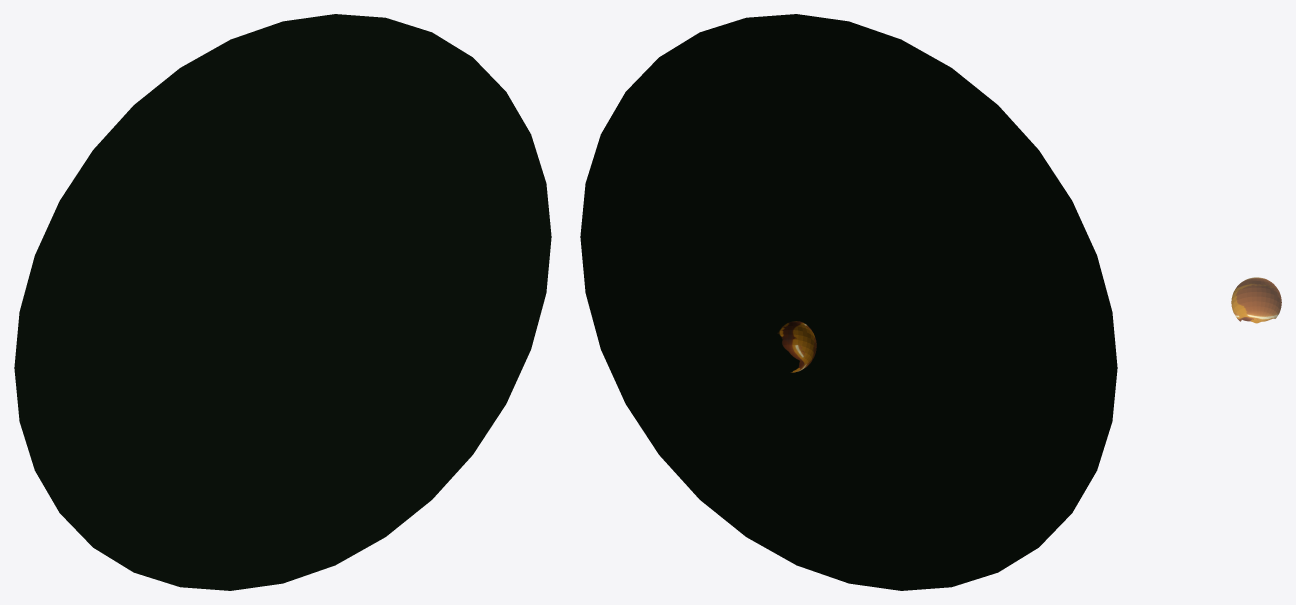
3 views of the same model, side by side, from view 1: azimuth 30°, elevation 25°; view 2: azimuth 150°, elevation 25°; view 3: azimuth 270°, elevation 25° (orthographic). The views are drawn at different scales.
Parts seen in each view (by area): view 1: explosion_bullet_circle; view 2: explosion_bullet_circle, explosion_cloud; view 3: explosion_cloud.
Boxes of the visible parts, x1=… form: explosion_bullet_circle: x1=14, y1=14, x2=551, y2=590; explosion_bullet_circle: x1=580, y1=14, x2=1117, y2=590; explosion_cloud: x1=777, y1=321, x2=816, y2=372; explosion_cloud: x1=1231, y1=277, x2=1281, y2=323.
Size of the model in its own units: 2 by 2 by 0.4701.
3 materials, 2 textured.
